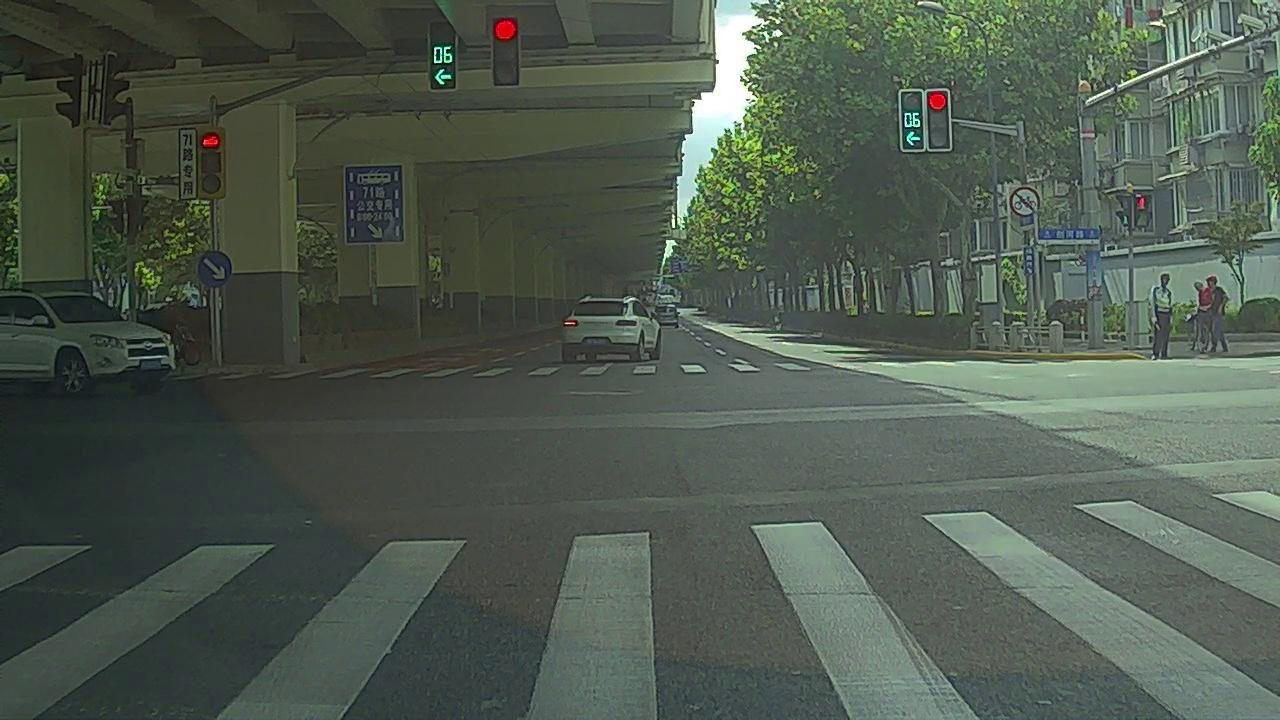traffic_light: (492, 17, 520, 87), (429, 22, 456, 90), (925, 90, 951, 150), (900, 91, 924, 151)
